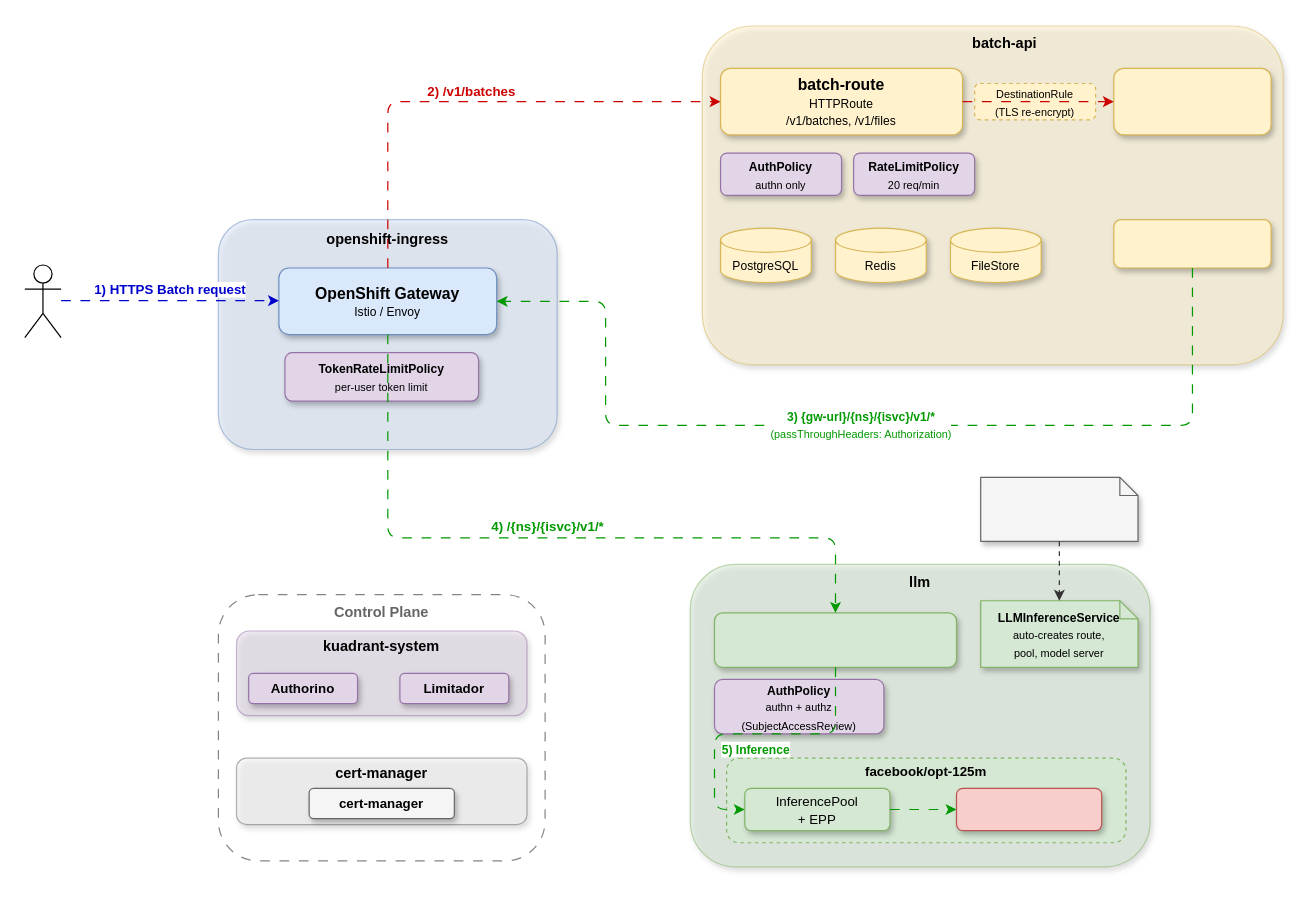
Some shapes in this 1312 by 897 pixel diagram are drawn without their labels. Each missing label, with the centre of its shape:
API Server HTTPS :8000: the point at 1193,102
Client: the point at 42,301
llm-route HTTPRoute (auto-generated): the point at 836,641
Processor: the point at 1193,245
RHOAI Operator manages KServe, LLMInferenceService: the point at 1060,510
vLLM (sim server): the point at 1029,810
